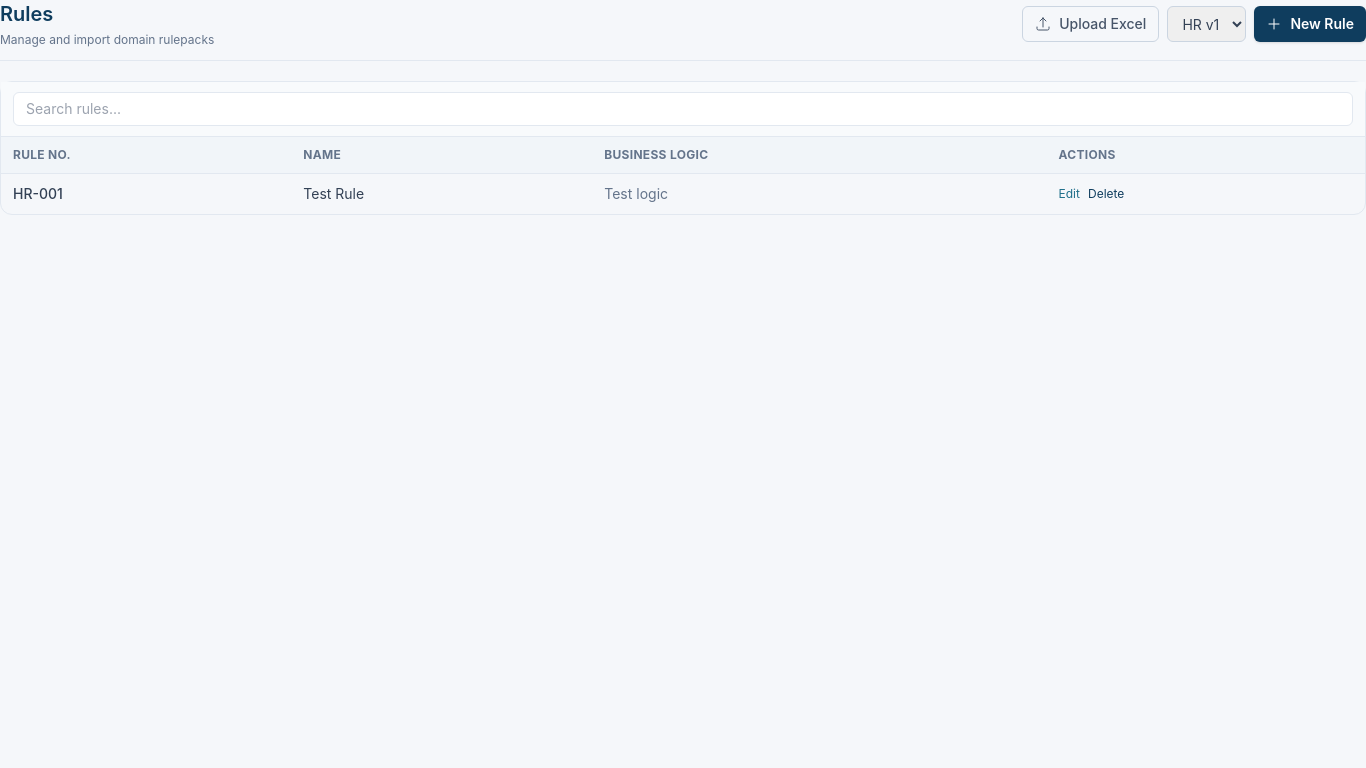
RulesPage › validates required fields before submitting a new rule
This screenshot has width=1366, height=768.
Click the button "New Rule".
click(1310, 24)  # box x1=1254 y1=6 x2=1365 y2=42
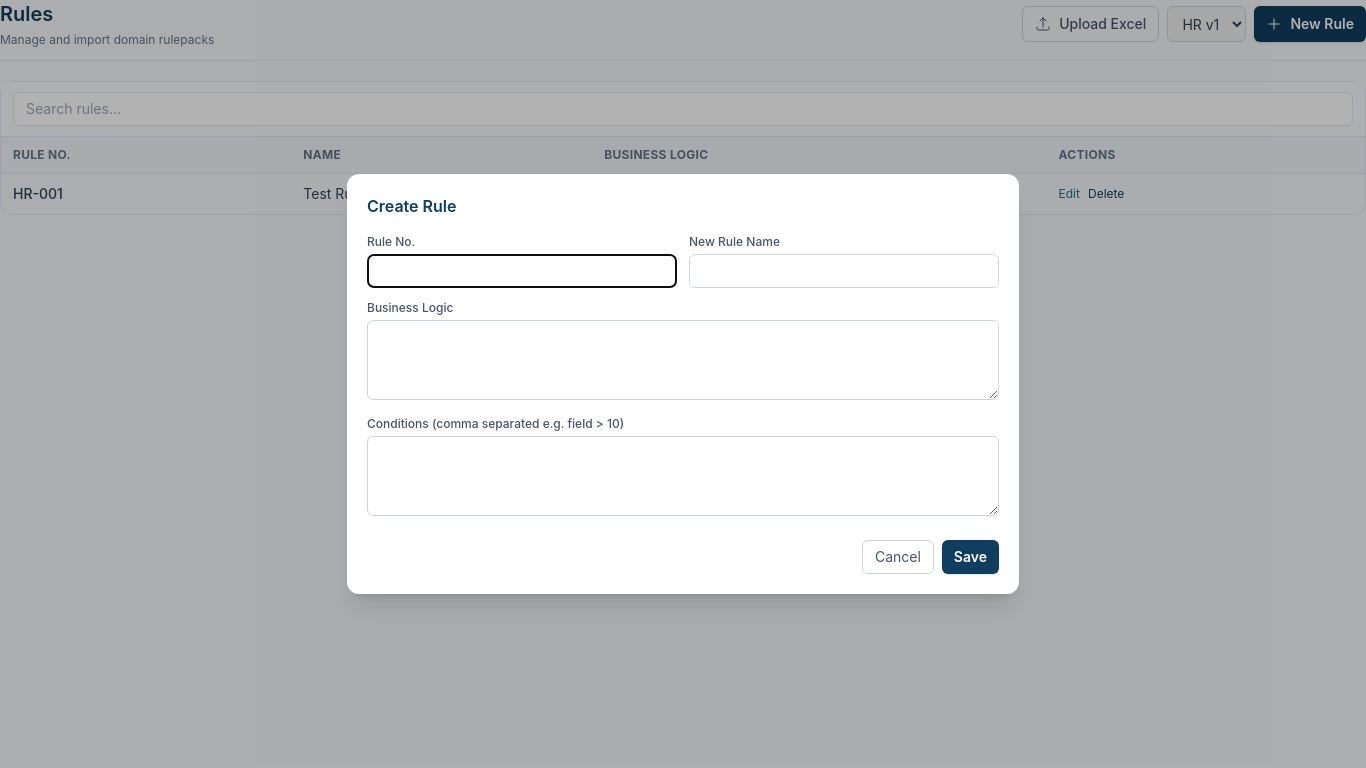
Click the button "Save".
click(970, 557)  # box x1=942 y1=540 x2=999 y2=574
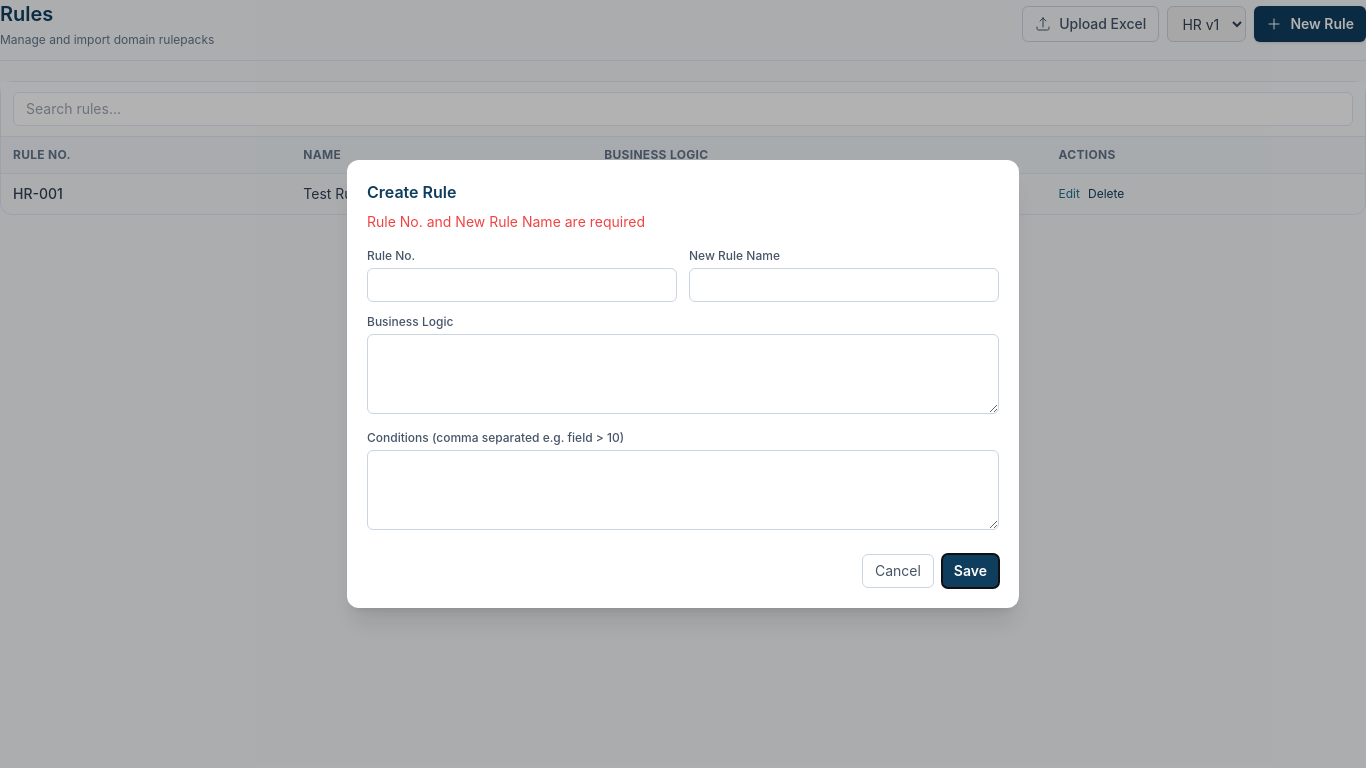
Check: the text "Rule No. and New Rule Name are required" is shown, box x1=367 y1=213 x2=645 y2=230
